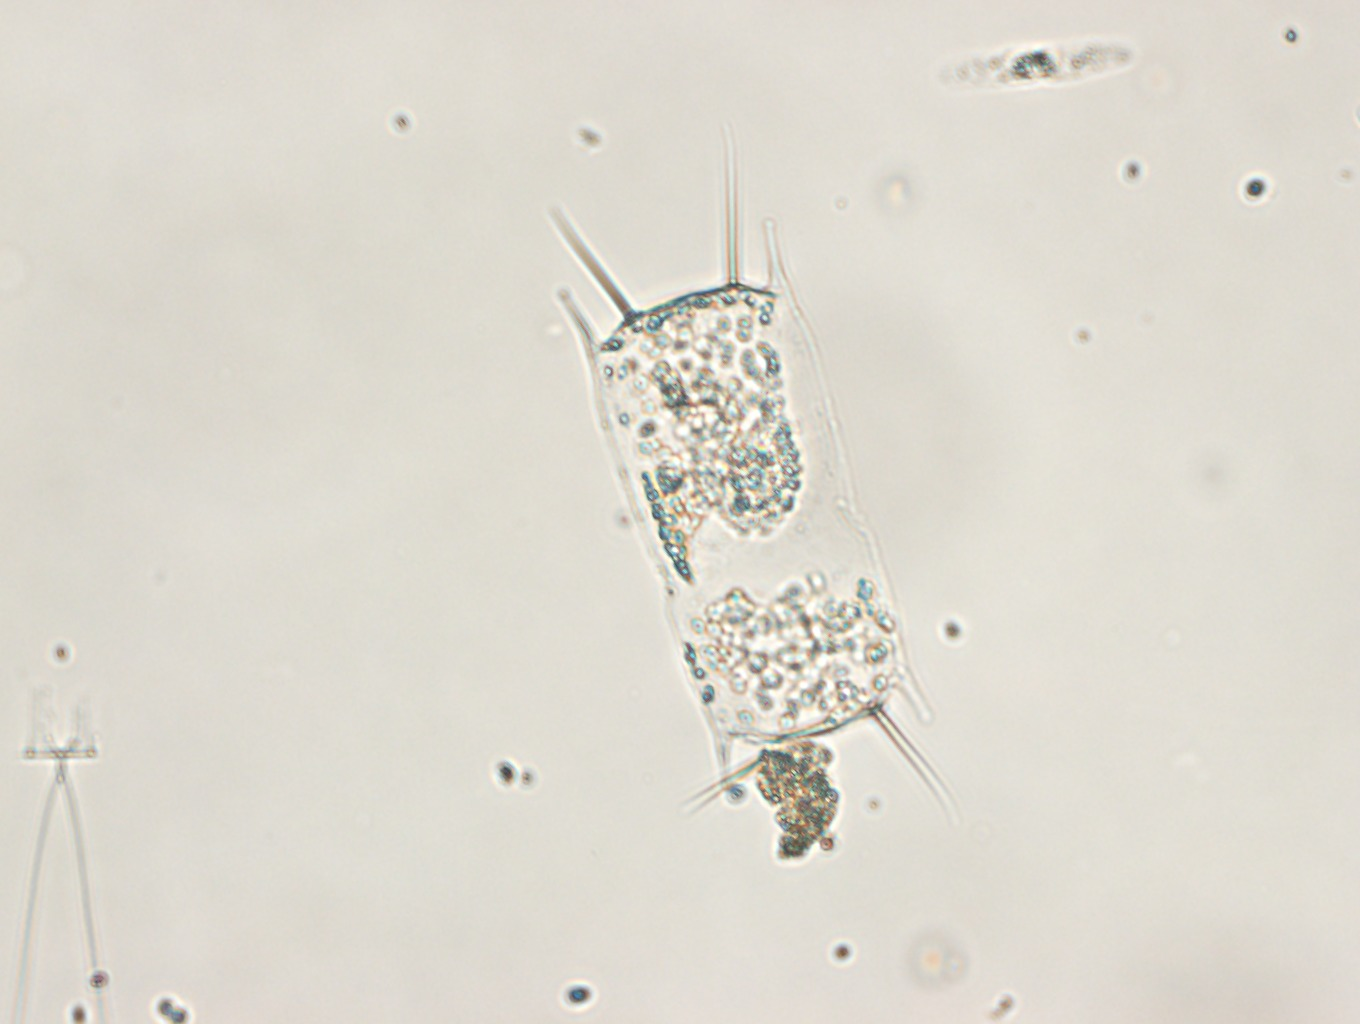biddulphia: (549, 124, 955, 825)
chaetoceros: (24, 720, 95, 1020)
